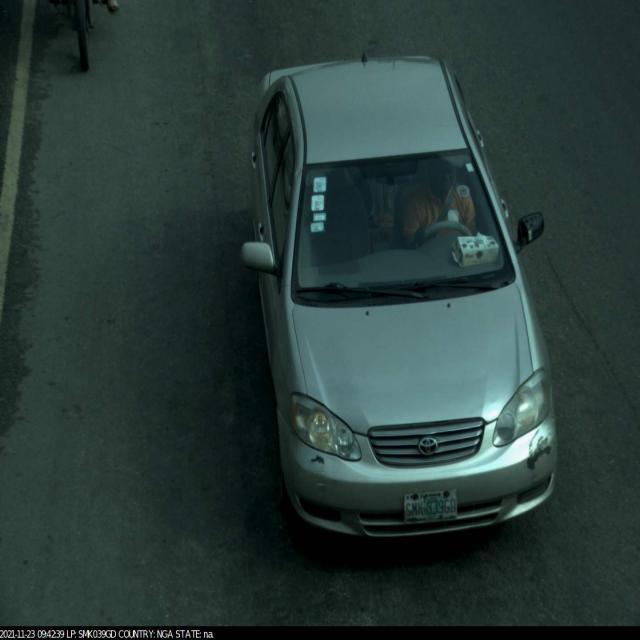windshield: (276, 138, 524, 316)
